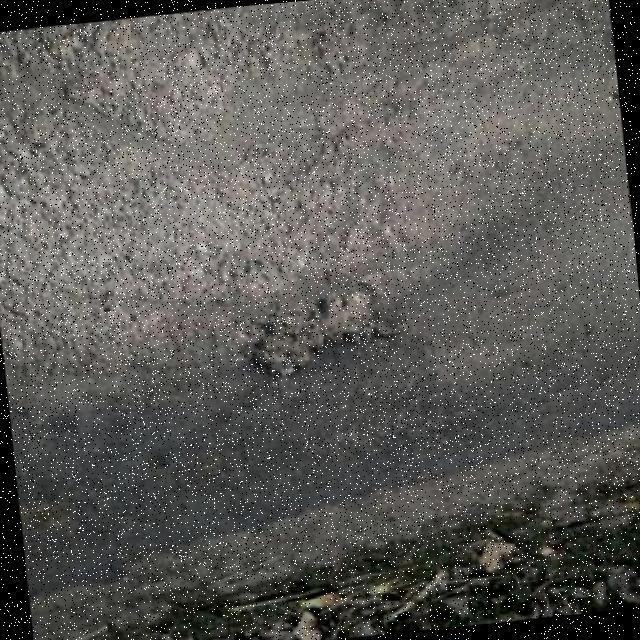Pothole: (249, 281, 393, 378)
